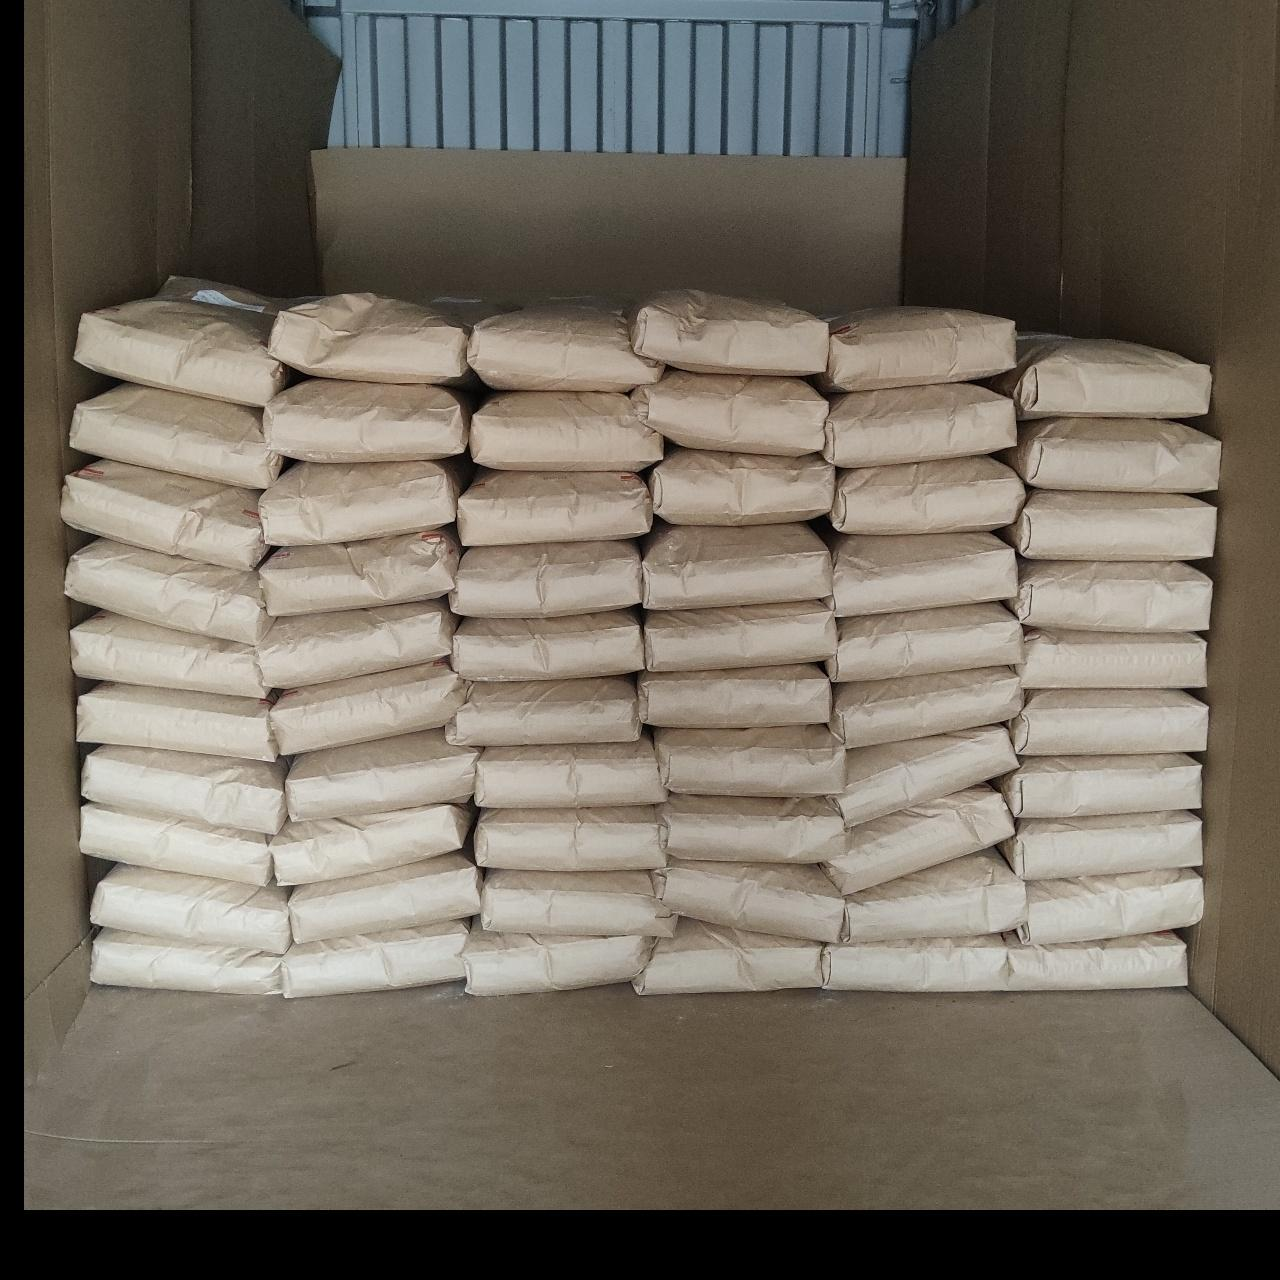sack: (74, 275, 298, 407), (268, 292, 515, 384), (72, 384, 282, 486), (64, 462, 266, 566), (66, 540, 270, 642), (824, 787, 1010, 892), (990, 336, 1210, 418), (272, 662, 468, 754), (82, 745, 286, 832), (836, 726, 1014, 822), (260, 459, 464, 542), (470, 304, 662, 390), (290, 855, 478, 942), (260, 600, 454, 686), (263, 530, 458, 614), (632, 290, 826, 374), (91, 866, 288, 949), (842, 852, 1022, 942), (264, 380, 468, 459), (632, 370, 826, 454), (288, 731, 478, 816), (821, 309, 1014, 390), (72, 614, 266, 694), (1005, 420, 1218, 492), (826, 384, 1014, 467), (642, 524, 830, 606), (272, 806, 470, 884), (828, 535, 1014, 614), (656, 862, 842, 940), (79, 685, 275, 758), (82, 806, 270, 884), (832, 458, 1022, 535), (472, 394, 662, 470), (830, 604, 1022, 678), (1008, 490, 1214, 558), (832, 668, 1022, 742), (452, 542, 640, 614), (282, 922, 467, 996), (1010, 561, 1210, 629), (651, 450, 832, 524), (634, 920, 822, 992), (1017, 870, 1200, 942), (459, 472, 651, 542), (644, 602, 836, 670), (452, 610, 642, 678), (1002, 812, 1198, 878), (656, 728, 844, 796), (448, 678, 638, 744), (476, 738, 662, 806), (482, 870, 674, 934), (1010, 690, 1206, 754), (467, 928, 654, 994), (660, 796, 846, 862), (998, 756, 1198, 813), (638, 666, 830, 726), (476, 808, 662, 869), (94, 930, 278, 990), (1017, 629, 1206, 686), (822, 937, 1006, 990), (1006, 934, 1186, 988)
